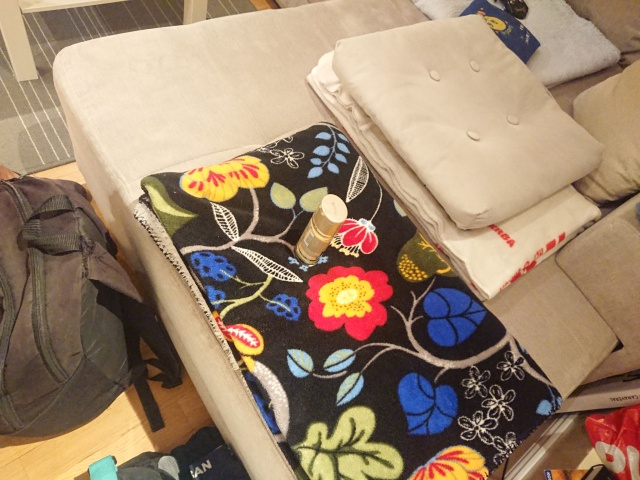Kotanyi Garlic Granules 70g: (291, 192, 350, 269)
